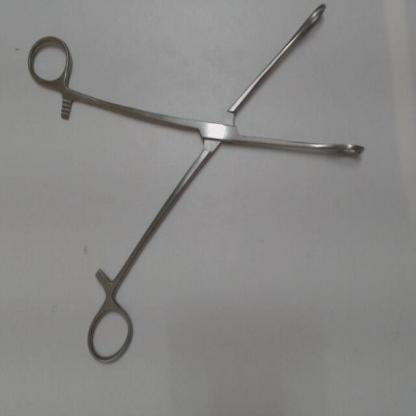Sponge Forceps: (20, 1, 371, 371)
